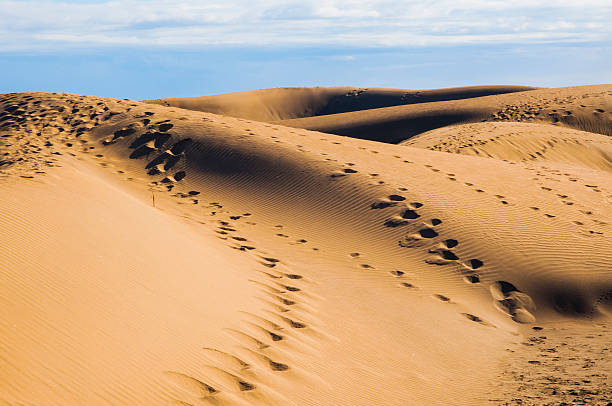human_foot_print: (4, 89, 492, 327), (339, 161, 533, 316), (165, 256, 308, 404)
